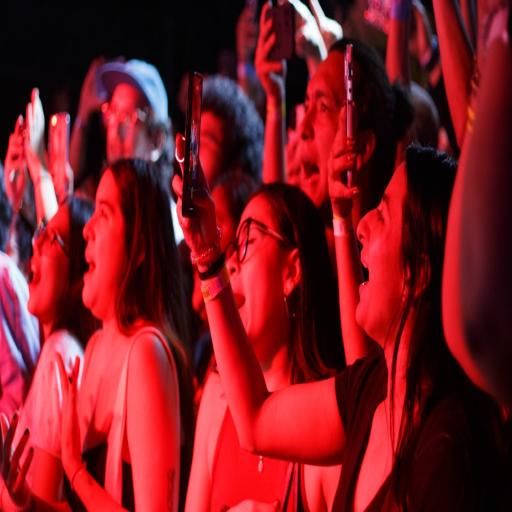face: (357, 164, 406, 345), (228, 223, 290, 363), (299, 52, 345, 208), (83, 169, 127, 321), (28, 204, 70, 324)
